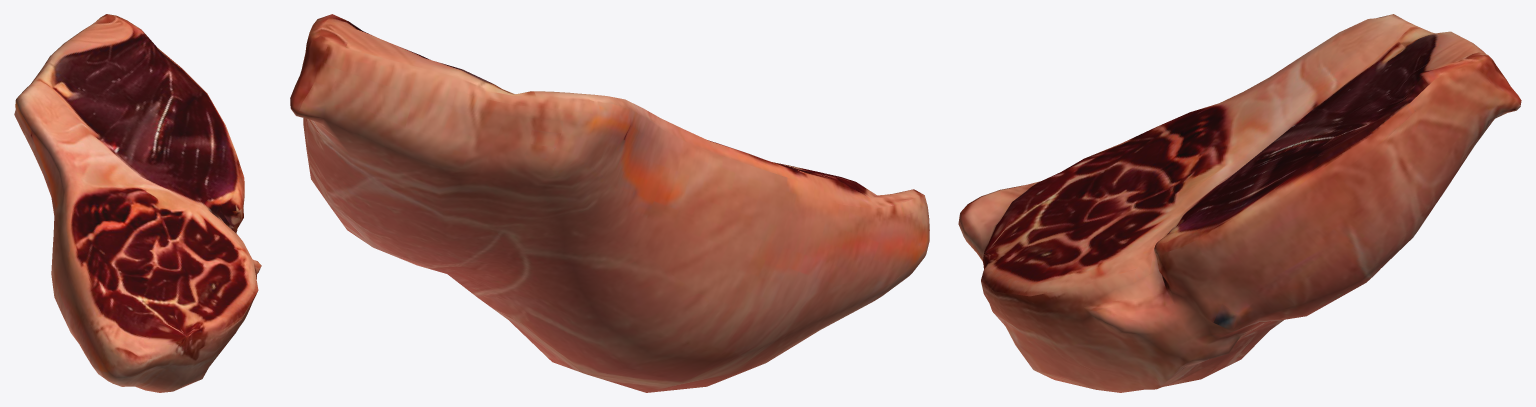
Rendered from full details.glb.
3 renders of one model, left to right at view 1: azimuth 30°, elevation 25°; view 2: azimuth 150°, elevation 25°; view 3: azimuth 270°, elevation 25°, orthographic. The views are drawn at different scales.
Visible parts, largest first — view 1: c1; view 2: c1; view 3: c1.
Part boxes in pixels (<box>): c1: <box>14,14,261,392</box>; c1: <box>290,14,929,392</box>; c1: <box>958,14,1521,392</box>.
Size of the model in its own units: 2.28 by 2.57 by 3.45.
1 material, 1 textured.
